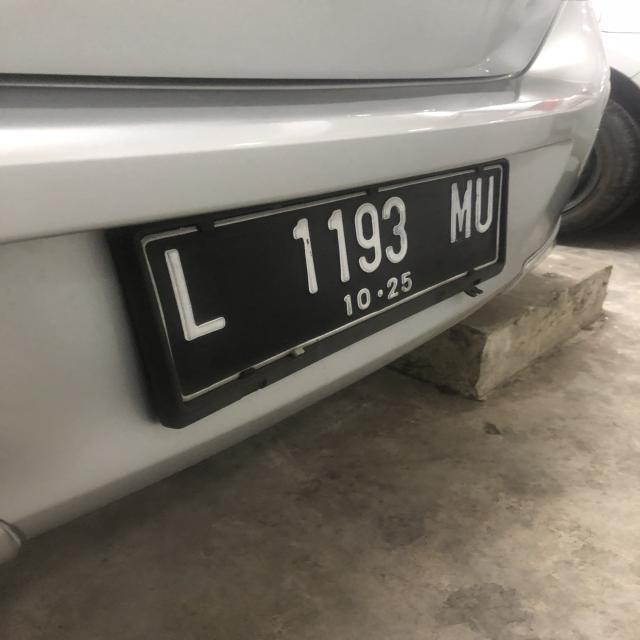1: (319, 206, 356, 288), (288, 209, 320, 300)
3: (381, 194, 410, 265)
9: (350, 198, 382, 275)
L: (163, 244, 229, 344)
M: (448, 177, 474, 242)
U: (473, 173, 497, 236)
